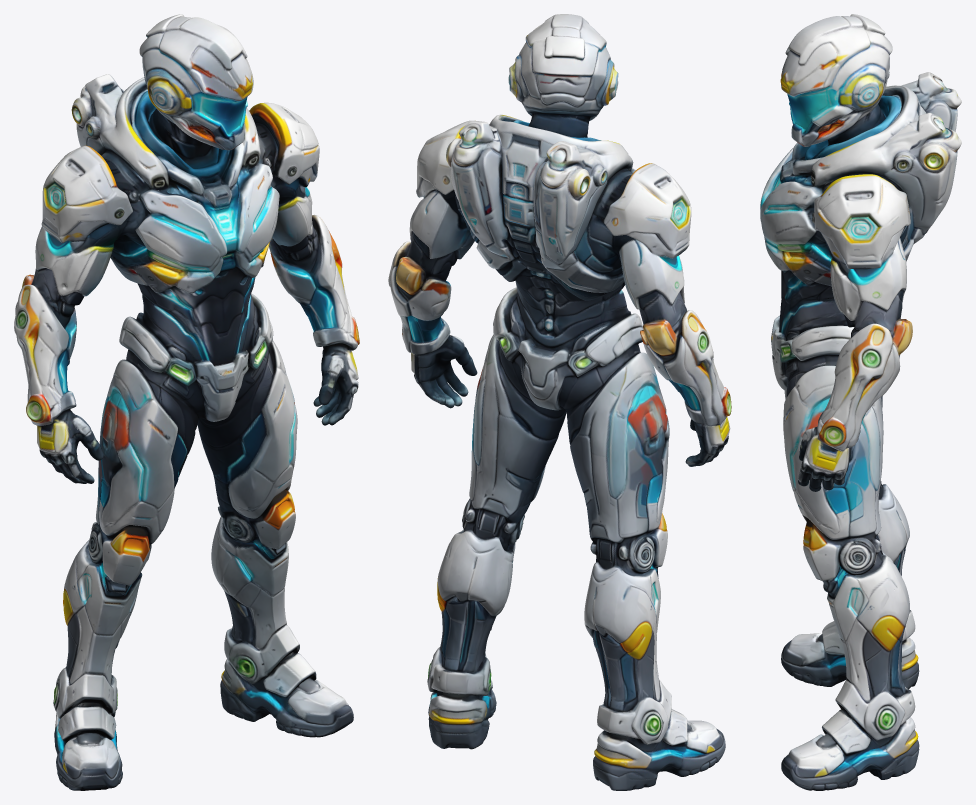
Rendered from Hero_02.glb.
3 renders of one model, left to right at view 1: azimuth 30°, elevation 25°; view 2: azimuth 150°, elevation 25°; view 3: azimuth 270°, elevation 25°, orthographic. The views are drawn at different scales.
Visible parts, largest first — view 1: tripo_node_a953d56a-49b9-4ed1-ab30-8efa66f0eb88; view 2: tripo_node_a953d56a-49b9-4ed1-ab30-8efa66f0eb88; view 3: tripo_node_a953d56a-49b9-4ed1-ab30-8efa66f0eb88.
Part boxes in pixels (bbox=[...]): tripo_node_a953d56a-49b9-4ed1-ab30-8efa66f0eb88: bbox=[14, 14, 359, 790]; tripo_node_a953d56a-49b9-4ed1-ab30-8efa66f0eb88: bbox=[388, 14, 731, 790]; tripo_node_a953d56a-49b9-4ed1-ab30-8efa66f0eb88: bbox=[760, 14, 961, 790].
Size of the model in its own units: 0.4731 by 1 by 0.2579.
1 material, 1 textured.
